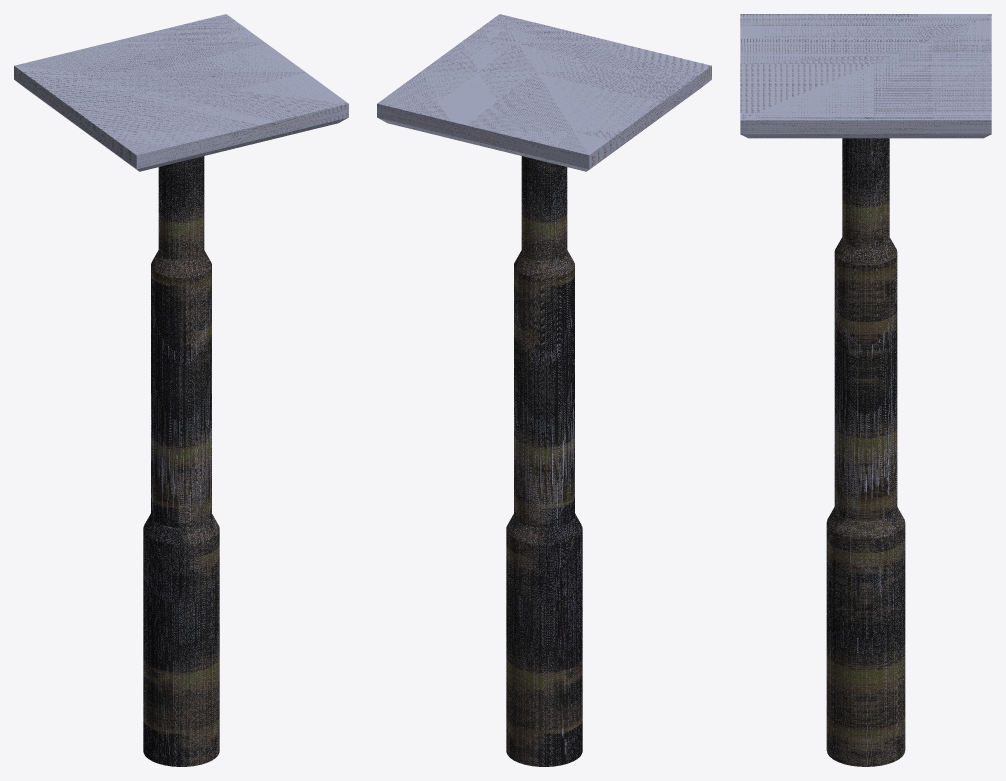
File: Piston Panel Wall.fbx
3 renders of one model, left to right at view 1: azimuth 30°, elevation 25°; view 2: azimuth 150°, elevation 25°; view 3: azimuth 270°, elevation 25°, orthographic. The views are drawn at different scales.
Visible parts, largest first — view 1: Model; view 2: Model; view 3: Model.
Part boxes in pixels (x1,y1,x2,y2): Model: (14, 14, 348, 766); Model: (377, 14, 711, 766); Model: (740, 14, 991, 766).
Bounding box in the file's own units: 128 × 384 × 128.
